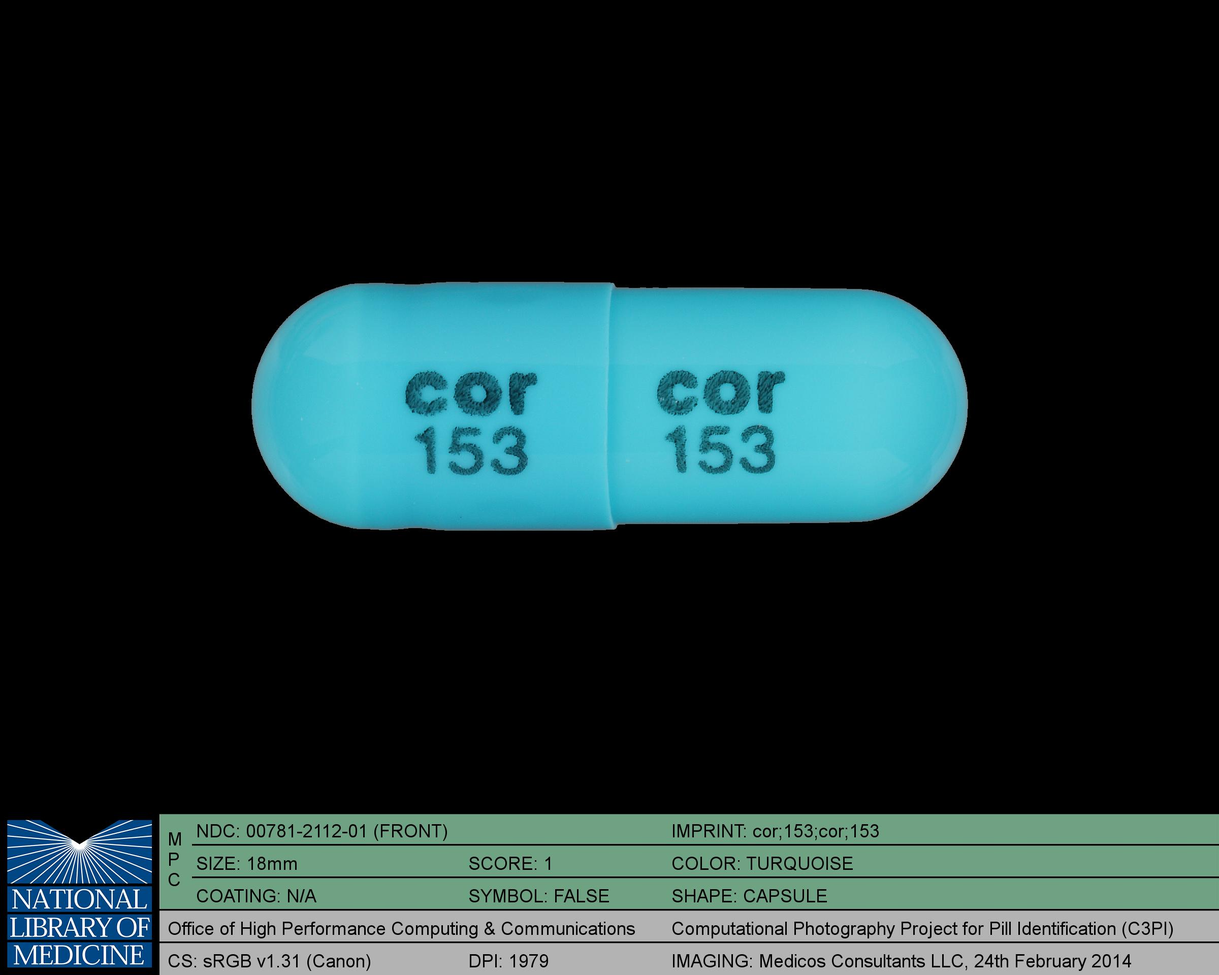Pill: (242, 267, 980, 543)
